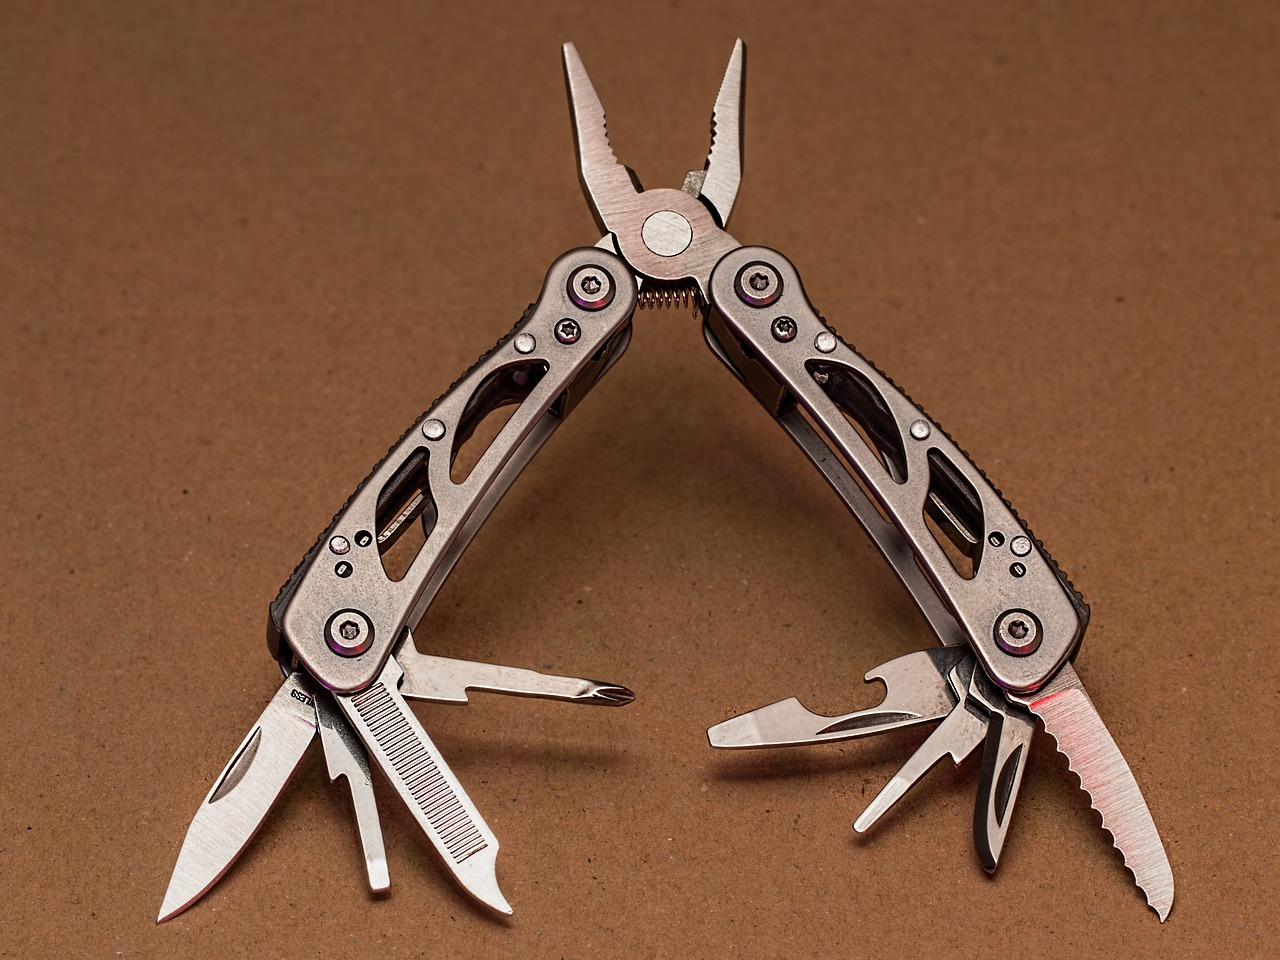knife: (136, 659, 321, 937), (332, 657, 518, 923), (1011, 659, 1183, 926), (966, 664, 1039, 882)
